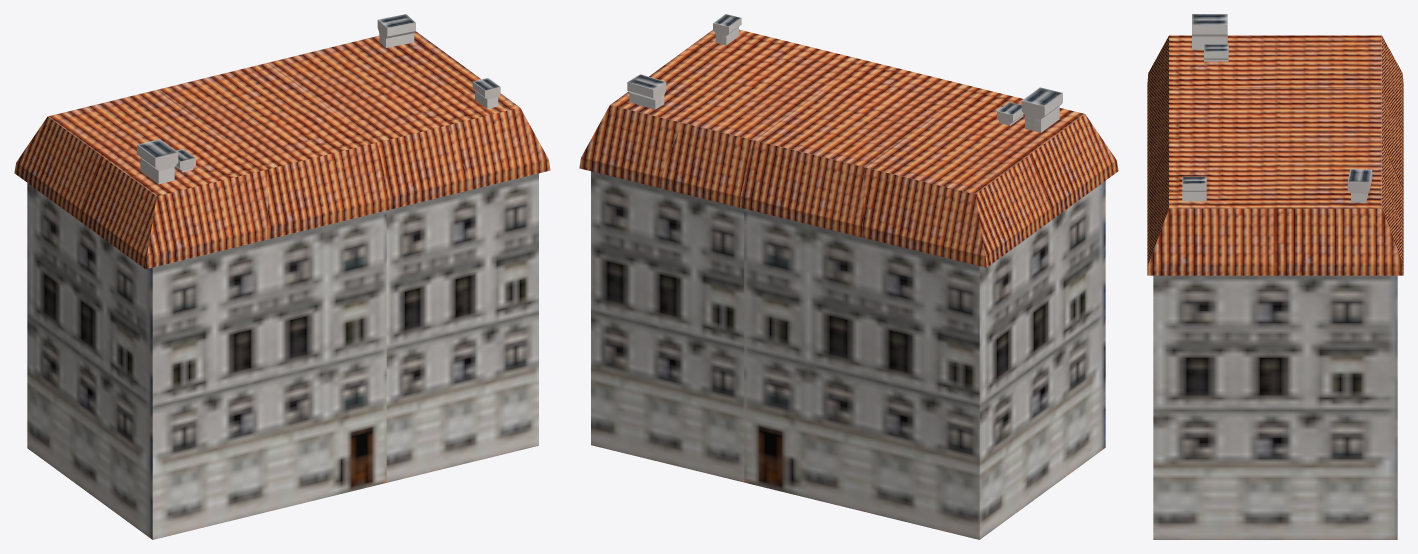
The model's file is Mesh_BuildingTypeE.fbx.
The picture shows the model from 3 angles, left to right: view 1: azimuth 30°, elevation 25°; view 2: azimuth 150°, elevation 25°; view 3: azimuth 270°, elevation 25°; orthographic projection. The views are drawn at different scales.
Visible parts, largest first — view 1: Box007; view 2: Box007; view 3: Box007.
Part boxes in pixels (x1,y1,x2,y2): Box007: (14, 14, 550, 539); Box007: (579, 14, 1118, 539); Box007: (1147, 14, 1403, 539).
Size of the model in its own units: 1236 by 1055 by 694.
